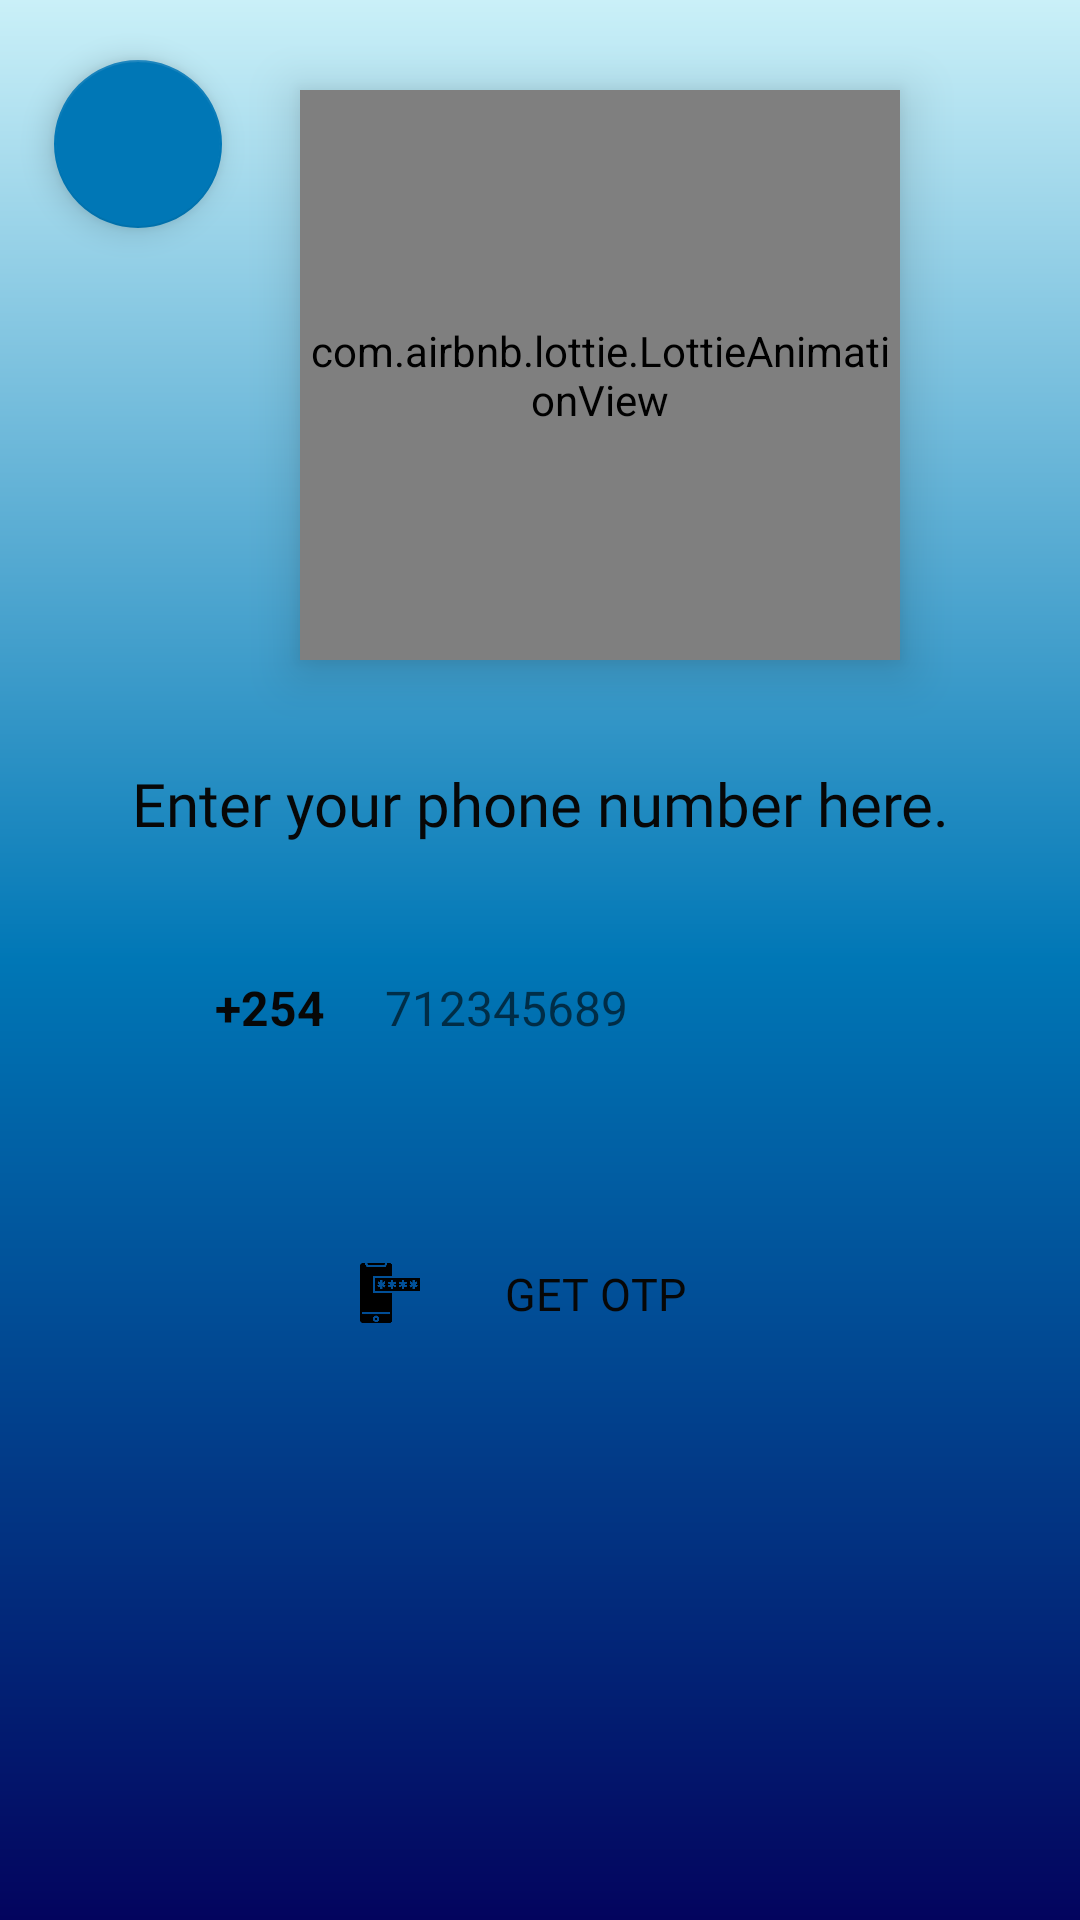

Where to tap for icons on this 1080 × 1920 app screen, as (x=x, y=y):
otpicon: (x=390, y=1293)
